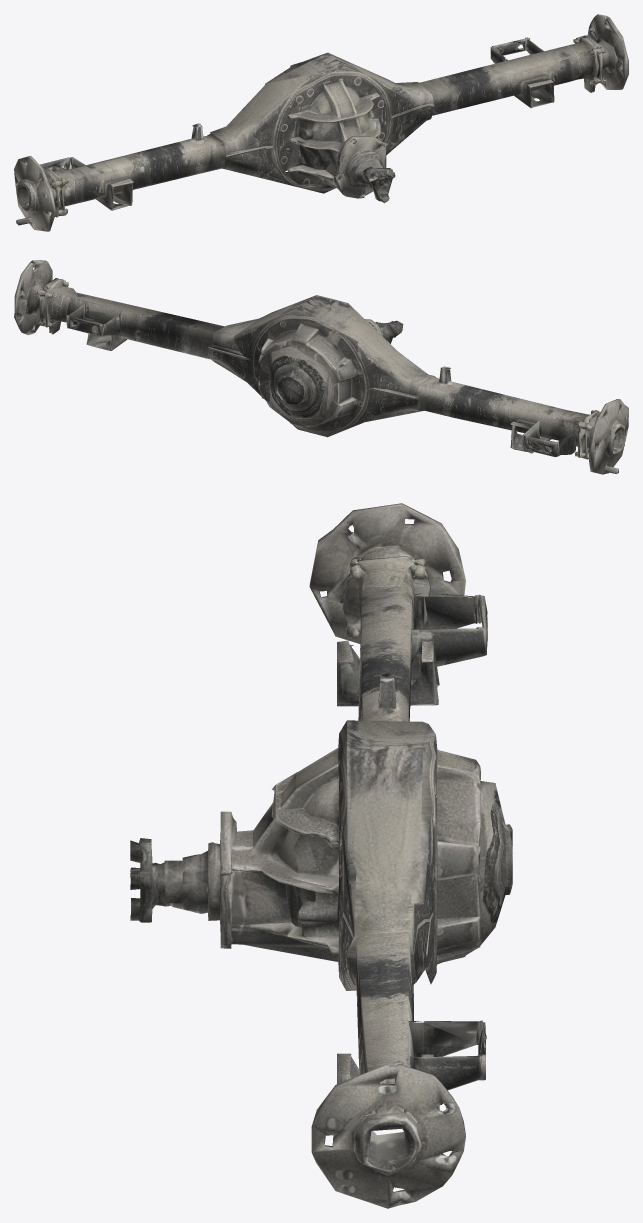
File: live_axle.glb
3 renders of one model, top to bottom at view 1: azimuth 30°, elevation 25°; view 2: azimuth 150°, elevation 25°; view 3: azimuth 270°, elevation 25°, orthographic. The views are drawn at different scales.
Visible parts, largest first — view 1: live_axle; view 2: live_axle; view 3: live_axle.
Boxes of the visible parts, x1,y1,x2,y2 form: live_axle: (14,14,628,231); live_axle: (14,260,628,474); live_axle: (130,503,512,1208).
Bounding box in the file's own units: 1 × 0.1949 × 0.2777.
Materials: 1 (1 with a texture image).
